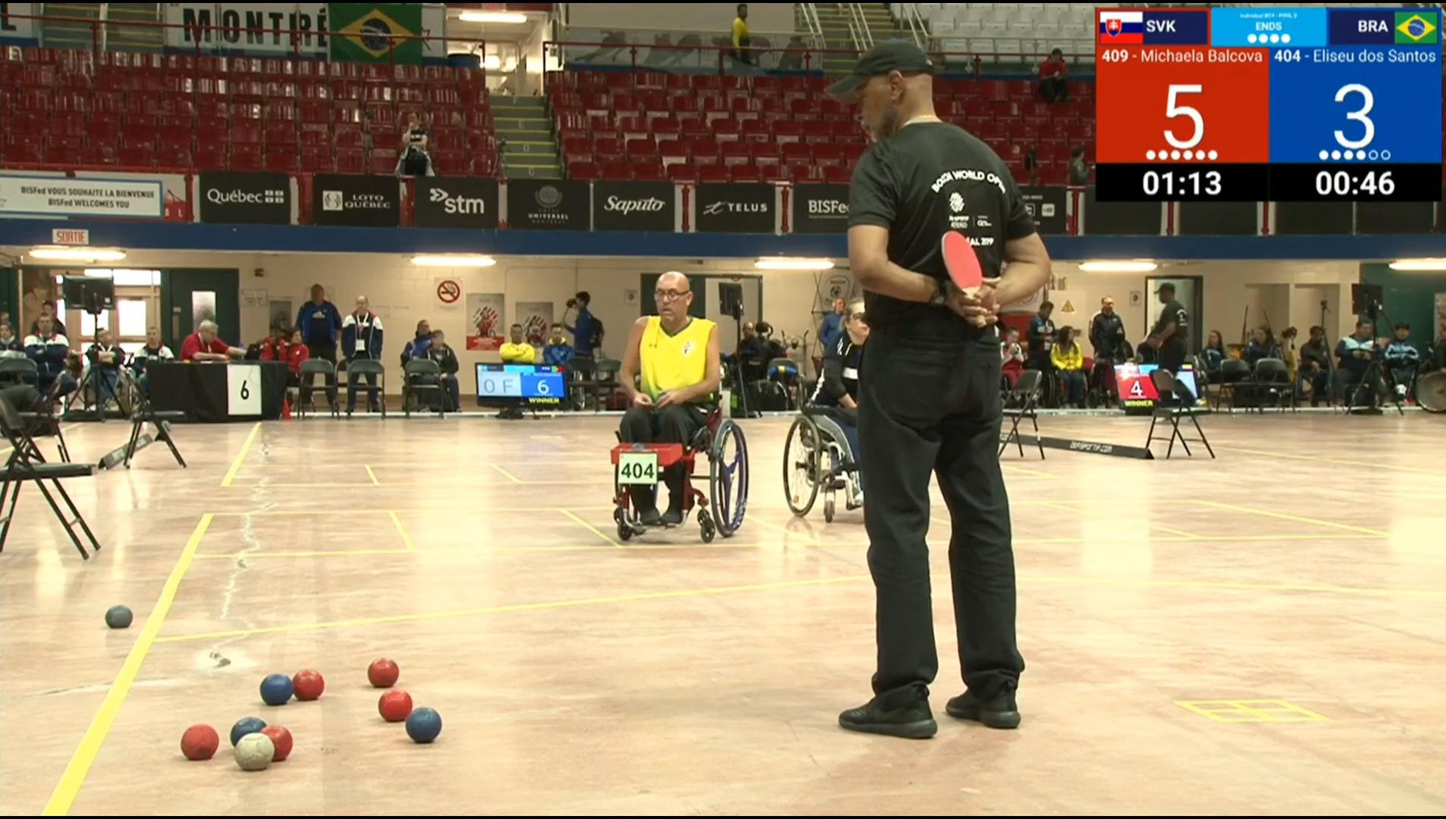blue_ball: (404, 705, 445, 746), (256, 670, 296, 707)
red_ball: (179, 722, 221, 765), (261, 724, 300, 764), (377, 688, 415, 725), (290, 666, 326, 703), (365, 656, 401, 689)
white_ball: (232, 731, 278, 777)
